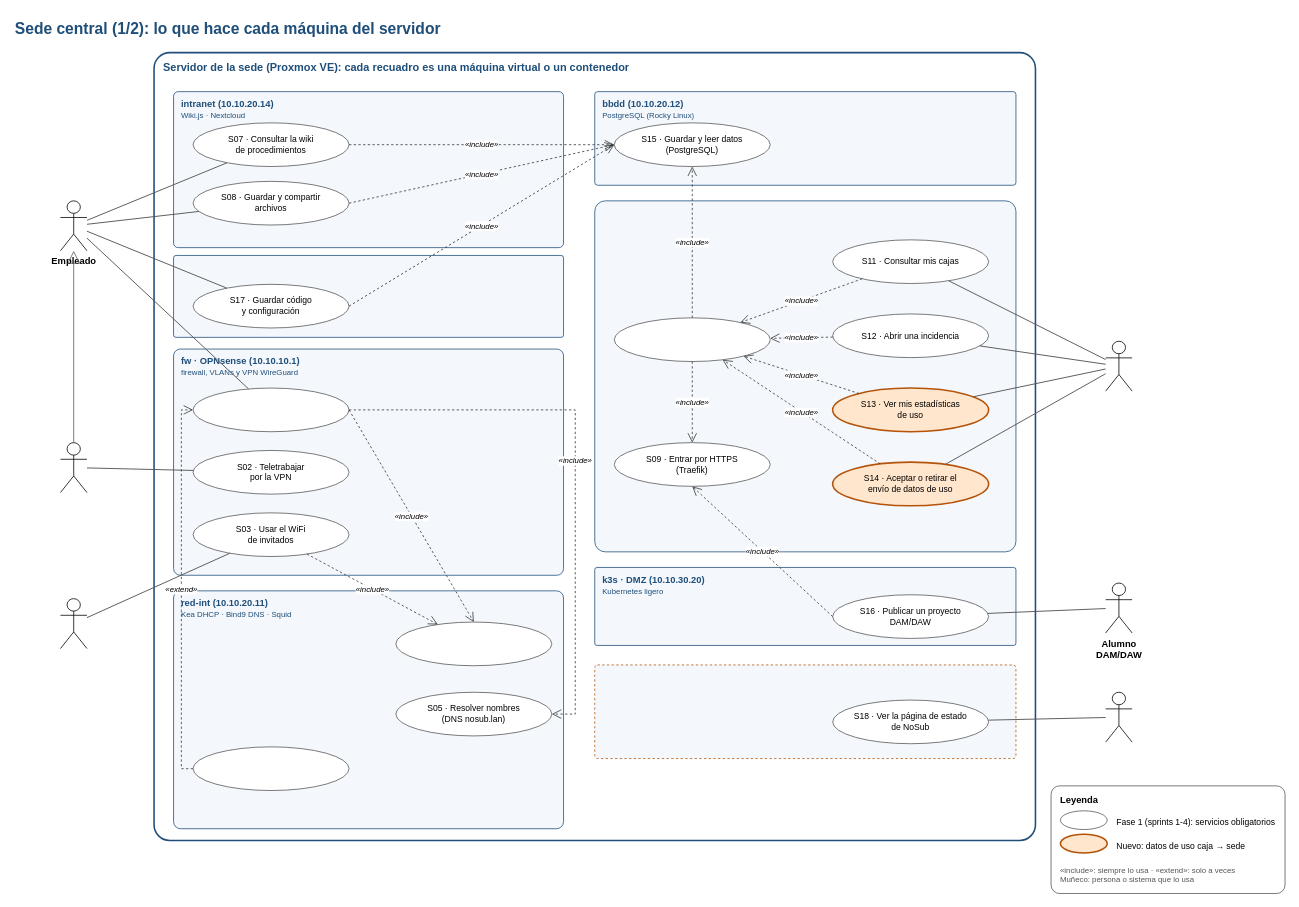
This 1299x907 diagram has some shape labels left out. The shapes that lost their labels are listed below. From the top down, each one's box as (x1, y1, x2, y2) in pixels, then its label:
(173, 255, 564, 337): gitea (10.10.20.10) repositorio Git
(613, 317, 770, 362): S10 · Iniciar sesión en el portal
(594, 200, 1016, 552): extranet · DMZ (10.10.30.10) Traefik (HTTPS) · portal de clientes
(1105, 340, 1132, 391): Cliente
(192, 387, 349, 432): S01 · Conectarse a la red de la oficina
(60, 442, 87, 493): Teletrabajador
(60, 598, 87, 649): Invitado
(395, 621, 552, 666): S04 · Recibir una IP automática (DHCP)
(594, 664, 1016, 759): VPS en el cloud (fuera del servidor) Gatus · copias externas
(1105, 691, 1132, 742): Cualquiera (Internet)
(192, 746, 349, 791): S06 · Navegar por el proxy (Squid)
